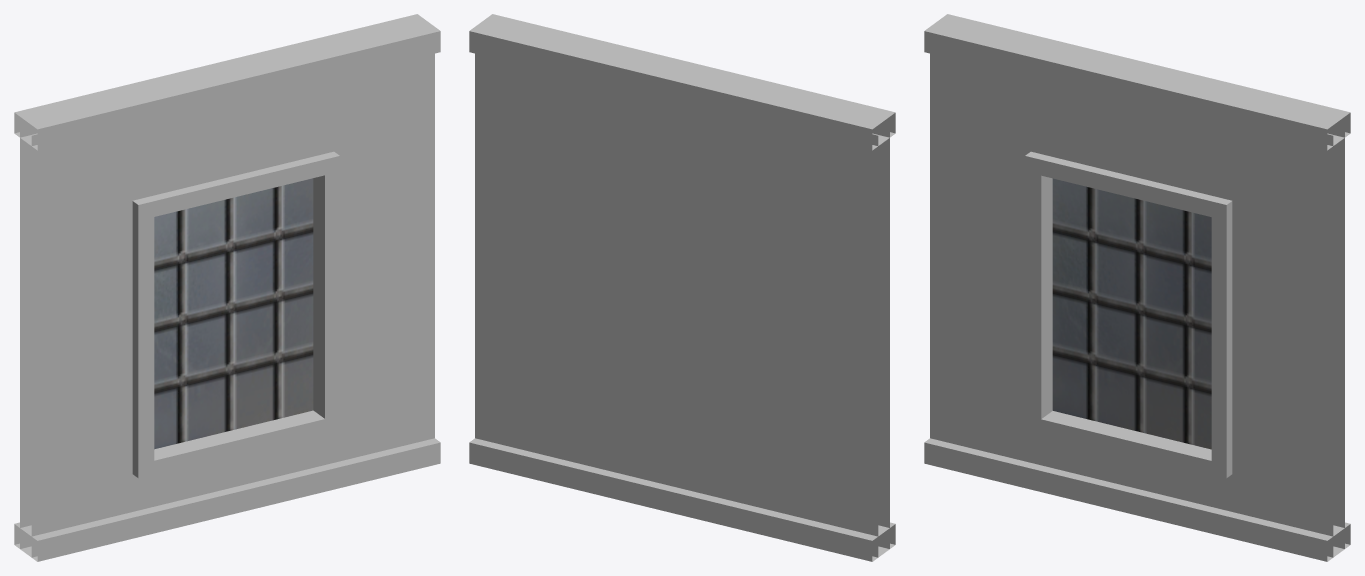
Rendered from Wall_2_6.fbx.
The picture shows the model from 3 angles, left to right: view 1: azimuth 30°, elevation 25°; view 2: azimuth 150°, elevation 25°; view 3: azimuth 330°, elevation 25°; orthographic projection.
Parts seen in each view (by area): view 1: polySurface9845; view 2: polySurface9845; view 3: polySurface9845.
Boxes of the visible parts, x1,y1,x2,y2 form: polySurface9845: (14, 14, 440, 561); polySurface9845: (469, 14, 895, 561); polySurface9845: (924, 14, 1350, 561).
Bounding box in the file's own units: 4 × 4.1 × 0.4.
